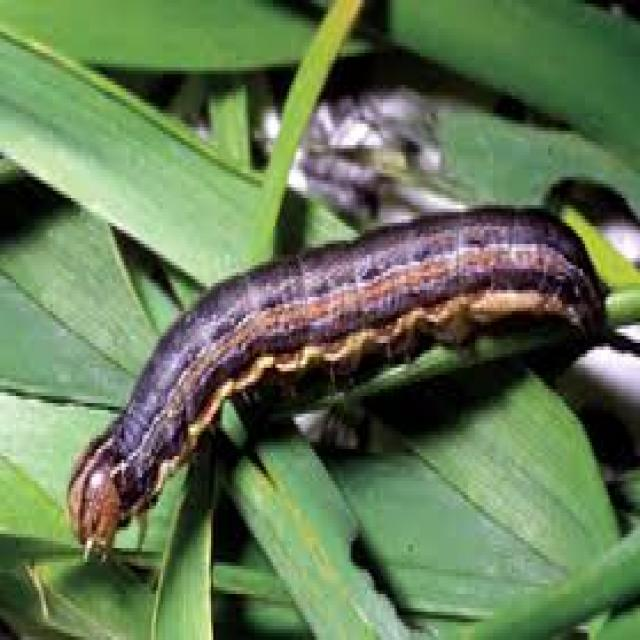armyworm: (60, 201, 595, 565)
